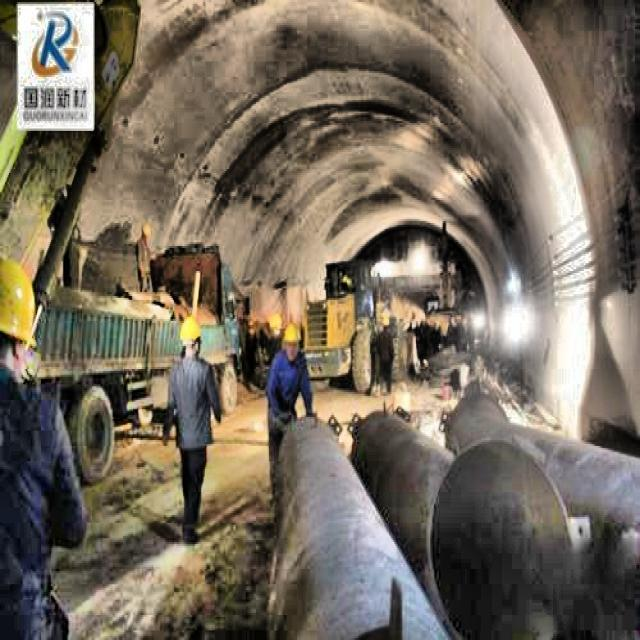helmet: (1, 254, 37, 373), (180, 316, 202, 362), (283, 321, 305, 363)
